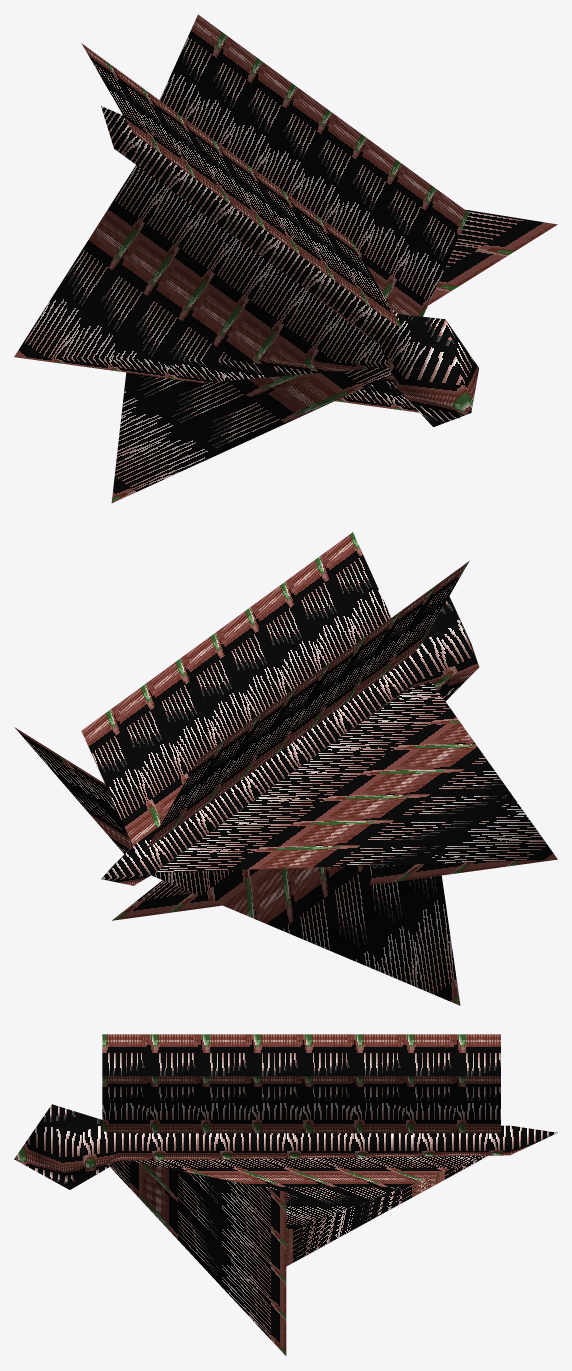
File: 2126_fish56.gltf
3 renders of one model, top to bottom at view 1: azimuth 30°, elevation 25°; view 2: azimuth 150°, elevation 25°; view 3: azimuth 270°, elevation 25°, orthographic. The views are drawn at different scales.
Visible parts, largest first — view 1: 2126_fish56; view 2: 2126_fish56; view 3: 2126_fish56.
Part boxes in pixels (x1=…): 2126_fish56: x1=14, y1=14, x2=557, y2=503; 2126_fish56: x1=14, y1=532, x2=557, y2=1005; 2126_fish56: x1=14, y1=1034, x2=557, y2=1355.
Bounding box in the file's own units: 0.8478 × 0.4845 × 1.
1 material, 1 textured.
